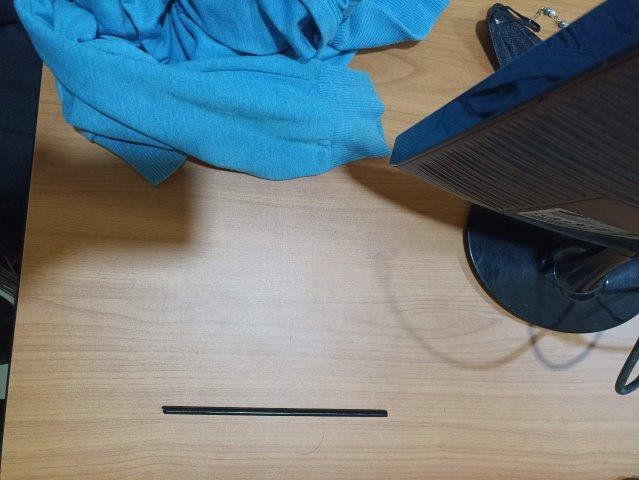sedotan: (162, 406, 388, 417)
